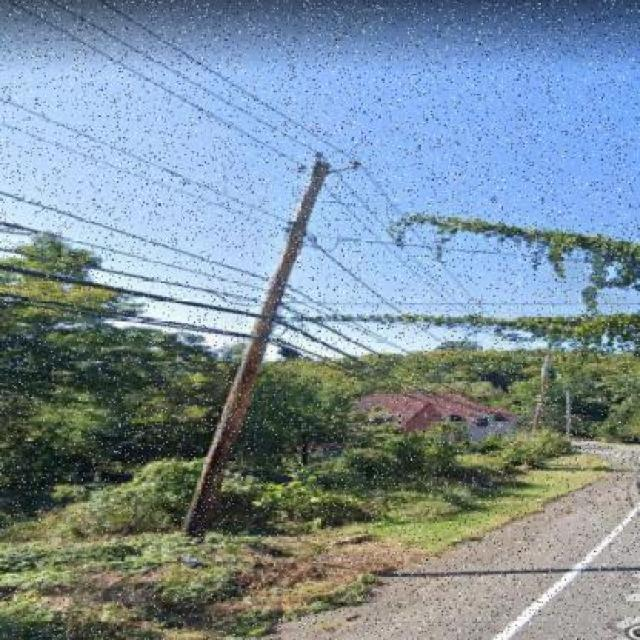pole: (140, 64, 418, 548)
